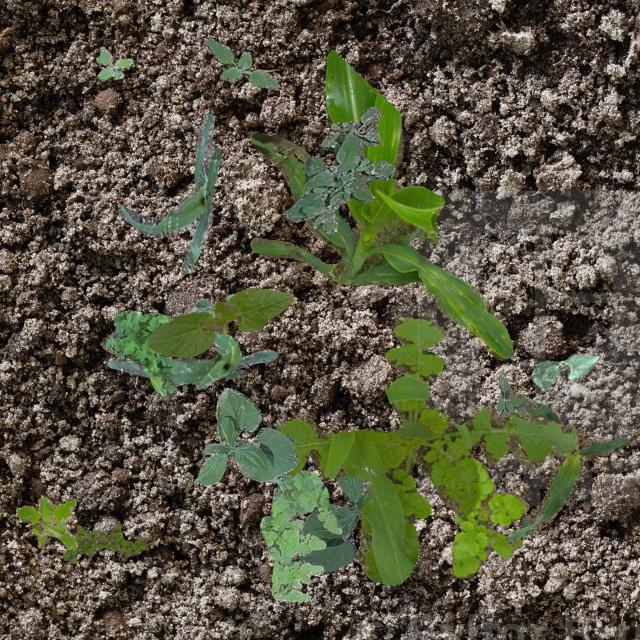crop: (248, 49, 512, 358), (504, 394, 626, 542), (116, 109, 220, 274), (146, 286, 292, 356), (106, 329, 278, 388), (196, 386, 296, 484), (298, 473, 372, 572), (530, 352, 598, 390), (188, 292, 234, 316)
weed: (276, 316, 578, 584), (284, 105, 394, 232), (258, 470, 340, 600), (450, 460, 528, 578), (101, 308, 176, 396), (204, 36, 278, 88), (61, 522, 148, 562), (17, 494, 76, 548), (496, 370, 526, 418), (95, 46, 132, 80)
